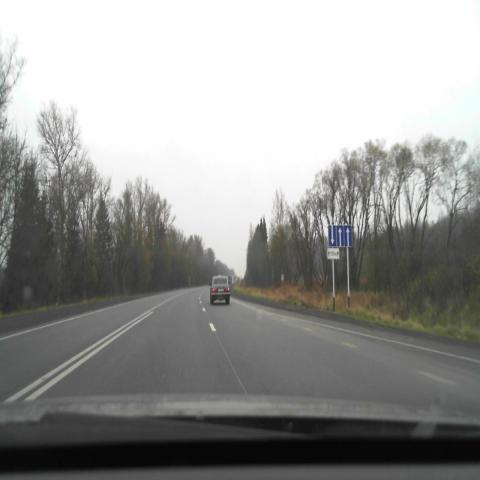5_15_7: (328, 225, 353, 247)
